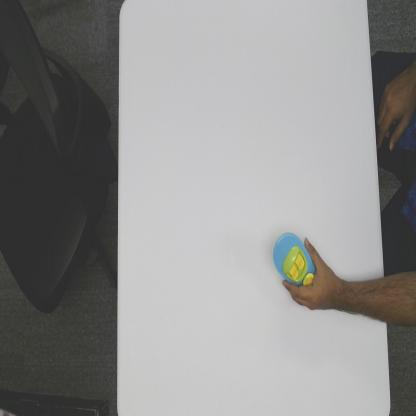Arm: (335, 276, 387, 324)
Boat: (271, 229, 315, 287)
Hand: (282, 237, 334, 313)
